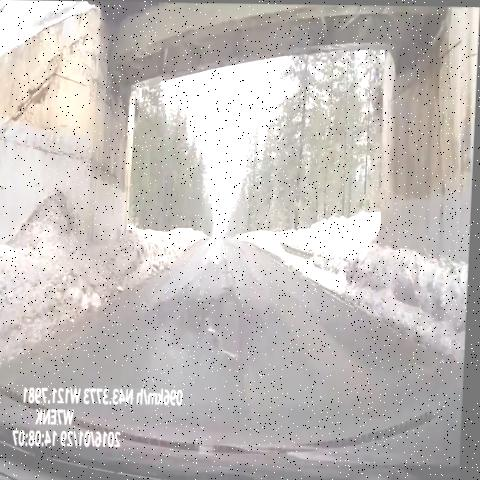pothole: (150, 291, 275, 380)
